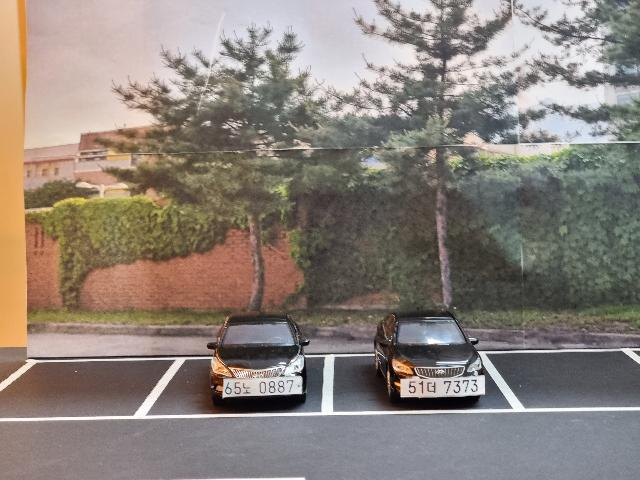empty: (1, 355, 170, 427), (508, 349, 640, 413)
occupied: (330, 303, 506, 415), (166, 309, 330, 421)
